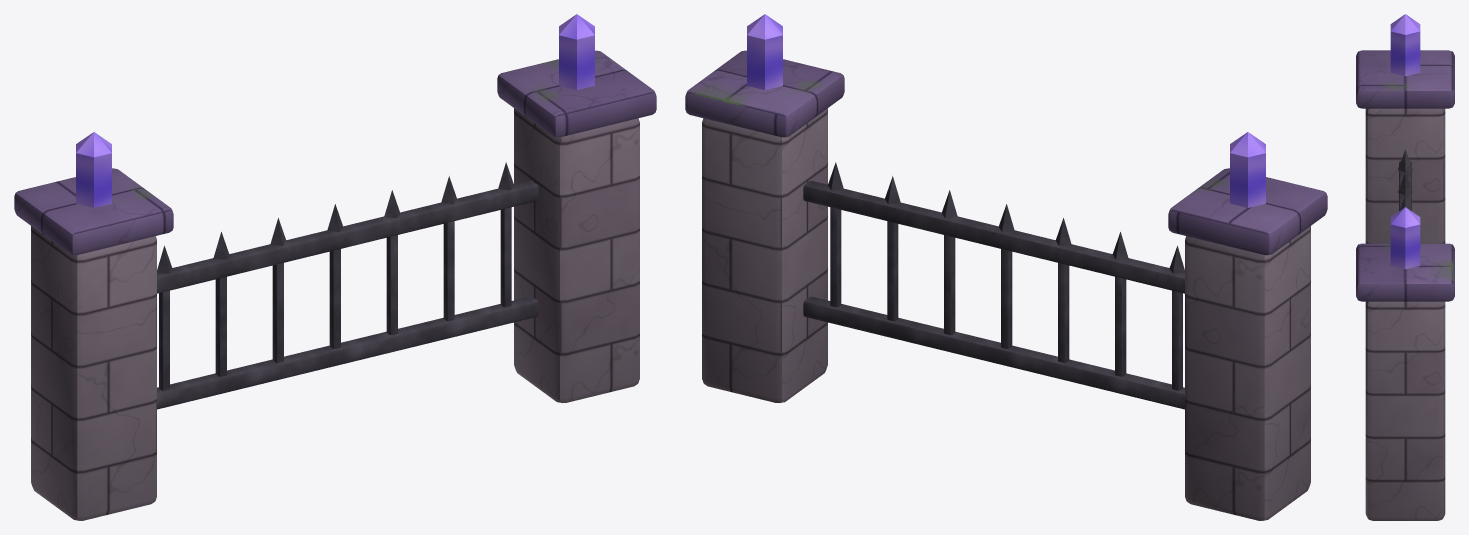
File: GIN_UG_StoneFence.fbx
3 views of the same model, side by side, from view 1: azimuth 30°, elevation 25°; view 2: azimuth 150°, elevation 25°; view 3: azimuth 270°, elevation 25° (orthographic). The views are drawn at different scales.
Parts seen in each view (by area): view 1: GIN_UG_StoneFence; view 2: GIN_UG_StoneFence; view 3: GIN_UG_StoneFence.
Boxes of the visible parts, bbox=[...] form: GIN_UG_StoneFence: bbox=[14, 14, 656, 520]; GIN_UG_StoneFence: bbox=[685, 14, 1327, 520]; GIN_UG_StoneFence: bbox=[1356, 14, 1454, 520].
Size of the model in its own units: 2.92 by 1.74 by 0.52.
